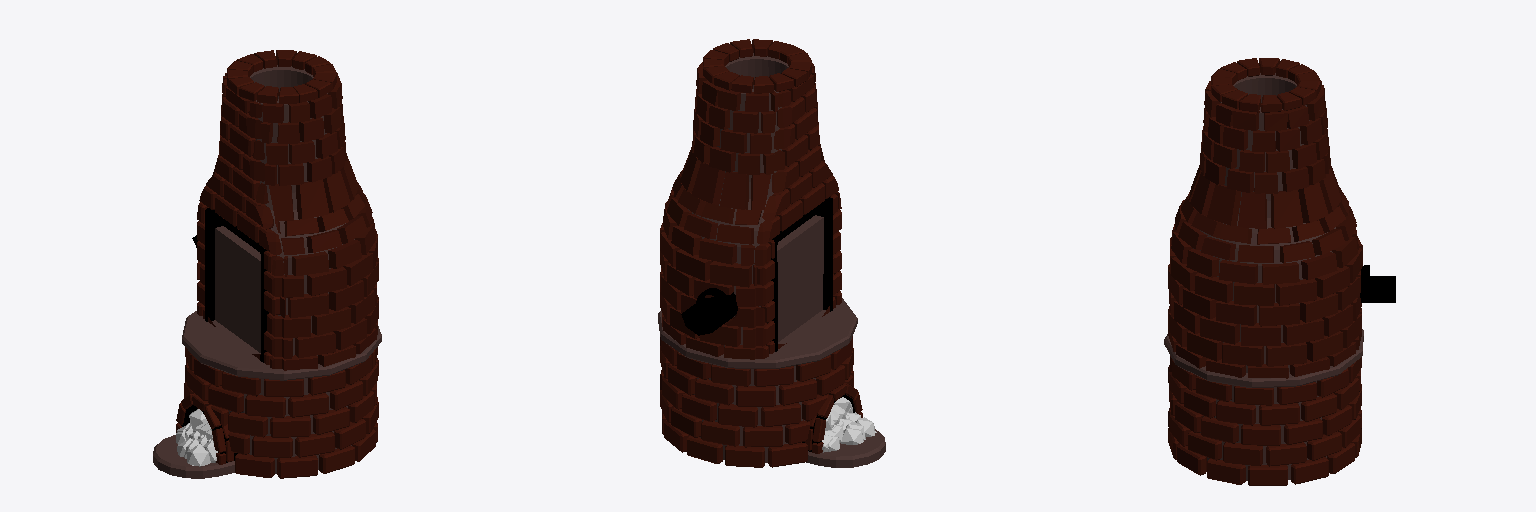
Rendered from Smeltery2.obj.
3 renders of one model, left to right at view 1: azimuth 30°, elevation 25°; view 2: azimuth 150°, elevation 25°; view 3: azimuth 270°, elevation 25°, orthographic.
Visible parts, largest first — view 1: Plane_Plane.001, Plane.004_Plane.005, Plane.005_Plane.003, Plane.003_Plane.007, Cylinder.001, Cylinder.011_Cylinder.009, Plane.008_Plane.006, Sphere.002, Cube.009, Icosphere, Cylinder.006, Plane.002_Plane.004; view 2: Plane_Plane.001, Plane.004_Plane.005, Plane.005_Plane.003, Plane.003_Plane.007, Cylinder.001, Cylinder.011_Cylinder.009, Plane.008_Plane.006, Sphere.002, Cube.009, Icosphere, Cylinder.006, Cylinder (+1 smaller); view 3: Plane.004_Plane.005, Plane_Plane.001, Plane.003_Plane.007, Plane.008_Plane.006, Sphere.002, Cylinder.011_Cylinder.009, Cylinder.
Boxes of the visible parts, <box> form: Plane_Plane.001: <box>184,347,378,478</box>; Plane.004_Plane.005: <box>213,73,375,276</box>; Plane.005_Plane.003: <box>197,79,283,368</box>; Plane.003_Plane.007: <box>279,229,378,370</box>; Cylinder.001: <box>215,226,330,355</box>; Cylinder.011_Cylinder.009: <box>182,311,381,380</box>; Plane.008_Plane.006: <box>227,50,336,103</box>; Sphere.002: <box>250,65,354,273</box>; Cube.009: <box>205,208,268,362</box>; Icosphere: <box>176,409,217,466</box>; Cylinder.006: <box>153,435,234,478</box>; Plane.002_Plane.004: <box>176,393,225,464</box>; Plane_Plane.001: <box>660,336,853,467</box>; Plane.004_Plane.005: <box>663,62,828,265</box>; Plane.005_Plane.003: <box>754,68,841,358</box>; Plane.003_Plane.007: <box>660,223,838,359</box>; Cylinder.001: <box>724,215,823,346</box>; Cylinder.011_Cylinder.009: <box>658,298,857,368</box>; Plane.008_Plane.006: <box>703,39,811,93</box>; Sphere.002: <box>688,53,788,262</box>; Cube.009: <box>771,197,832,351</box>; Icosphere: <box>822,397,874,452</box>; Cylinder.006: <box>806,429,885,467</box>; Cylinder: <box>681,298,737,335</box>; Plane.004_Plane.005: <box>1171,81,1358,284</box>; Plane_Plane.001: <box>1168,356,1361,485</box>; Plane.003_Plane.007: <box>1168,236,1362,378</box>; Plane.008_Plane.006: <box>1211,58,1320,112</box>; Sphere.002: <box>1193,73,1335,281</box>; Cylinder.011_Cylinder.009: <box>1164,329,1363,387</box>; Cylinder: <box>1360,276,1395,302</box>.
Bounding box in the file's own units: 2.61 × 4.39 × 2.49.